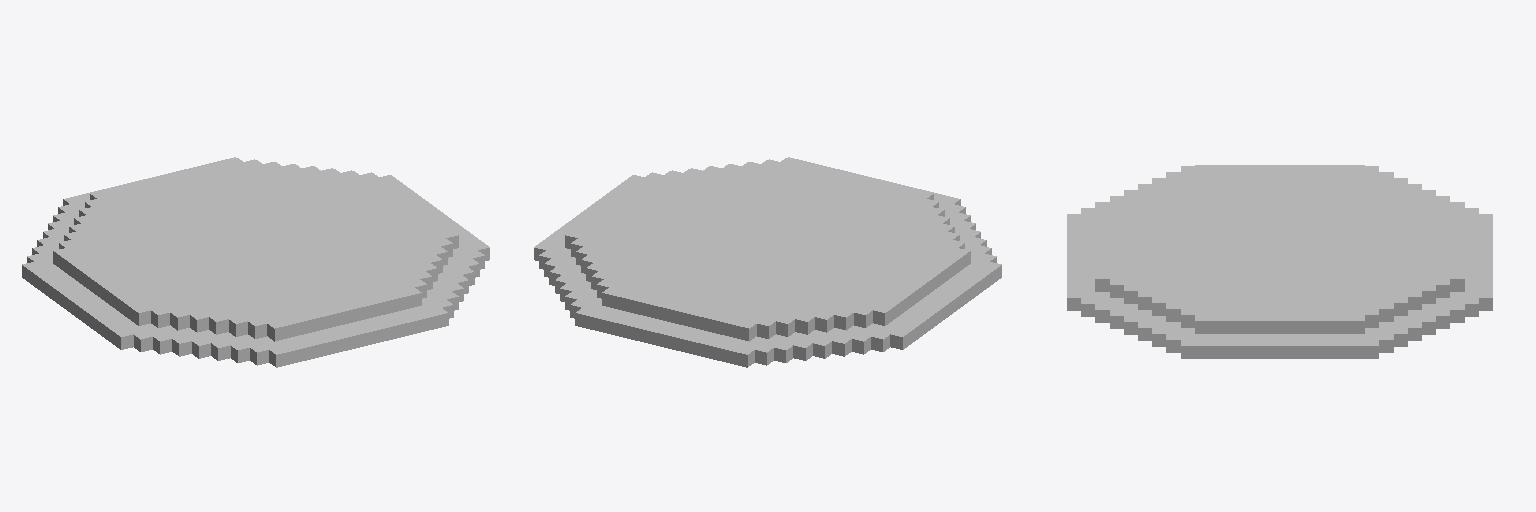
File: goal point 1.obj
3 renders of one model, left to right at view 1: azimuth 30°, elevation 25°; view 2: azimuth 150°, elevation 25°; view 3: azimuth 270°, elevation 25°, orthographic.
Visible parts, largest first — view 1: object 1; view 2: object 1; view 3: object 1.
Boxes of the visible parts, box(x1,y1,x2,y2) form: object 1: box(22, 157, 489, 367); object 1: box(534, 157, 1001, 367); object 1: box(1067, 165, 1492, 358).
Size of the model in its own units: 3 by 0.2 by 3.